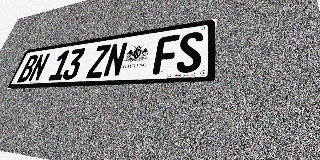1: (48, 50, 72, 81)
3: (61, 48, 86, 80)
B: (16, 54, 40, 82)
F: (152, 34, 180, 75)
N: (102, 42, 128, 78), (27, 53, 51, 82)
S: (176, 31, 203, 73)
Z: (86, 44, 111, 78)
